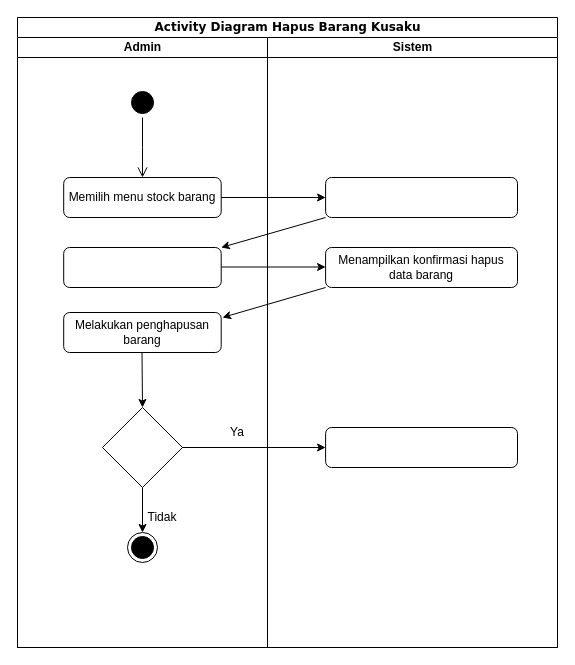
This 575x665 diagram has some shape labels left out. Here are the shapes that lost their labels. From the top down, the centre of each, then its label:
At (421,197): "Menampilkan page stock barang".
At (142,267): "Memilih action hapus".
At (421,447): "Menampilkan semua data stock barang".
